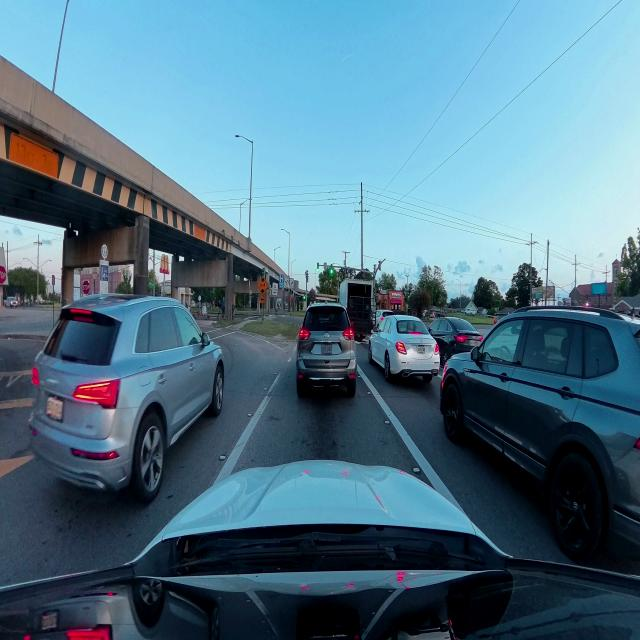car: (441, 308, 639, 559), (30, 295, 223, 501), (296, 303, 356, 397), (369, 315, 439, 381), (430, 317, 483, 362), (374, 310, 394, 327)
